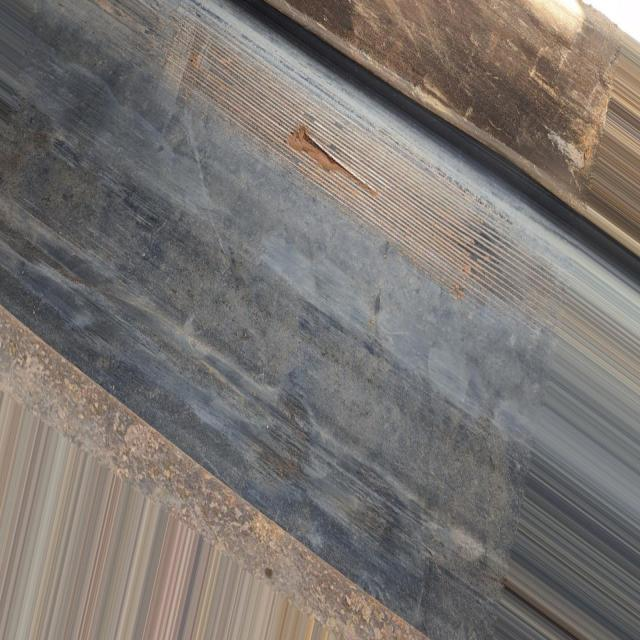impact damage: (183, 15, 490, 286)
